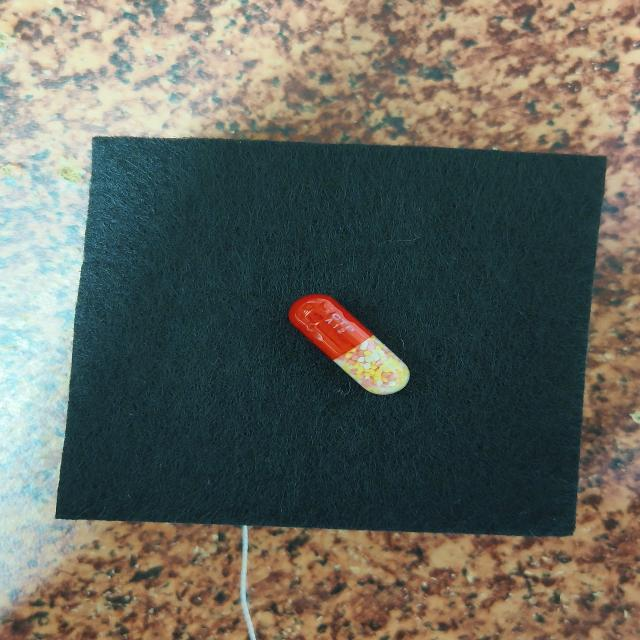Intact Capsule: (289, 294, 410, 395)
